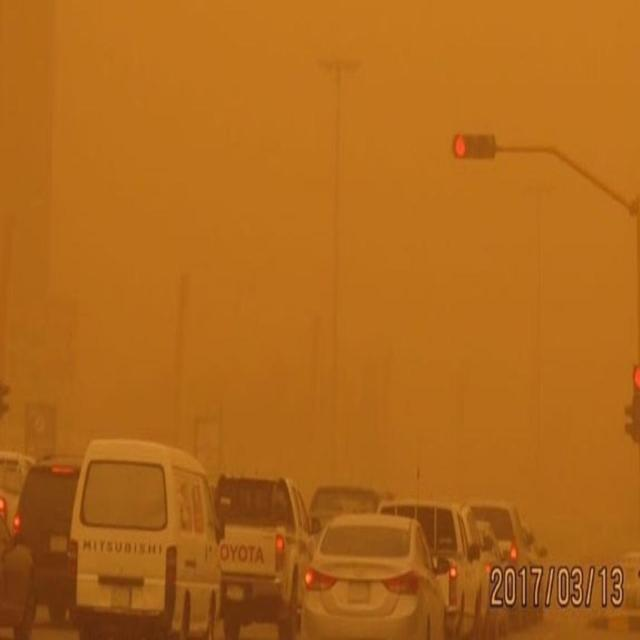Car: (300, 524, 447, 640), (212, 469, 304, 640), (10, 453, 74, 640)
Van: (68, 436, 224, 640)
